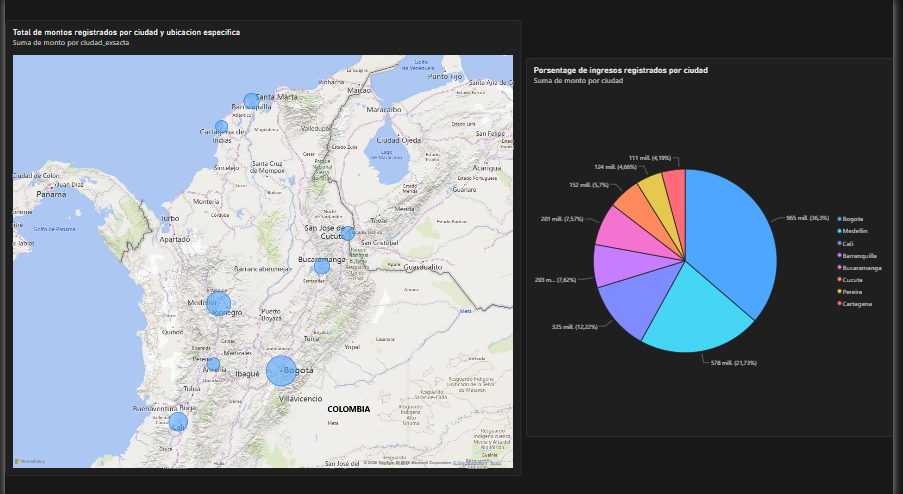

The dashboard page shown, as its layout file describes it:
{"tool":"powerbi","page":{"name":"Sectores especificos donde se realizaron las transacciones","canvas":[1920,1080],"ordinal":1},"visuals":[{"type":"map","title":"Total de montos registrados por ciudad y ubicacion especifica","fields":{"Category":["transacciones_banco.ciudad_exsacta"],"Size":["Sum(transacciones_banco.monto)"]},"box":[0,47.5,1114.6,985],"z":0},{"type":"pieChart","title":"Porsentage de ingresos registrados por ciudad","fields":{"Category":["transacciones_banco.ciudad"],"Y":["Sum(transacciones_banco.monto)"]},"box":[1125.4,129.6,794.9,818.6],"z":1}]}

Visuals, with their boxes in screenshot pixels (x1, y1, x2, y2), scaled from the page's 1920x1080 canvas onto the 903x494 screenshot:
"Total de montos registrados por ciudad y ubicacion especifica" map: Rect(0, 22, 524, 472)
"Porsentage de ingresos registrados por ciudad" pieChart: Rect(529, 59, 902, 434)
